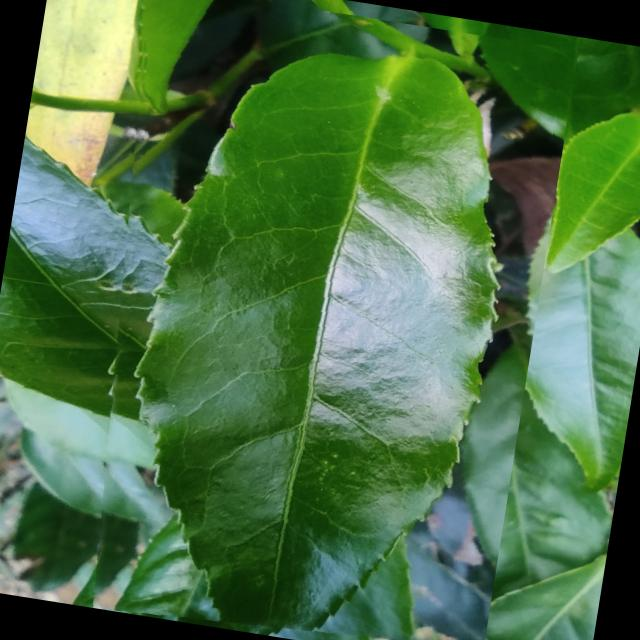Category C(4-7 days): (51, 0, 578, 640)
